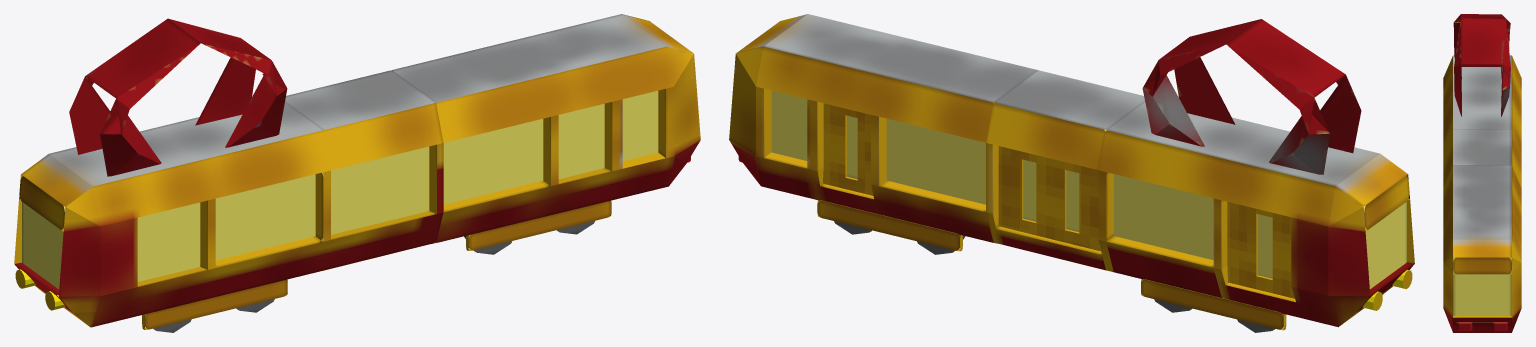
File: tramvai.fbx
3 renders of one model, left to right at view 1: azimuth 30°, elevation 25°; view 2: azimuth 150°, elevation 25°; view 3: azimuth 270°, elevation 25°, orthographic. The views are drawn at different scales.
Visible parts, largest first — view 1: beveled_cuboid, cuboid, cylinder; view 2: beveled_cuboid, cuboid, cuboid_1, cylinder; view 3: beveled_cuboid, cuboid, beveled_cuboid_1.
Part boxes in pixels (bbox=[...]): beveled_cuboid: bbox=[14, 14, 700, 332]; cuboid: bbox=[22, 90, 658, 289]; cylinder: bbox=[15, 269, 65, 310]; beveled_cuboid: bbox=[729, 14, 1414, 332]; cuboid: bbox=[771, 90, 1406, 288]; cuboid_1: bbox=[821, 103, 1294, 298]; cylinder: bbox=[1362, 269, 1412, 310]; beveled_cuboid: bbox=[1443, 14, 1521, 332]; cuboid: bbox=[1453, 257, 1511, 322]; beveled_cuboid_1: bbox=[1457, 322, 1507, 330].
Bounding box in the file's own units: 242 × 101 × 38.75.
5 materials, 5 textured.
